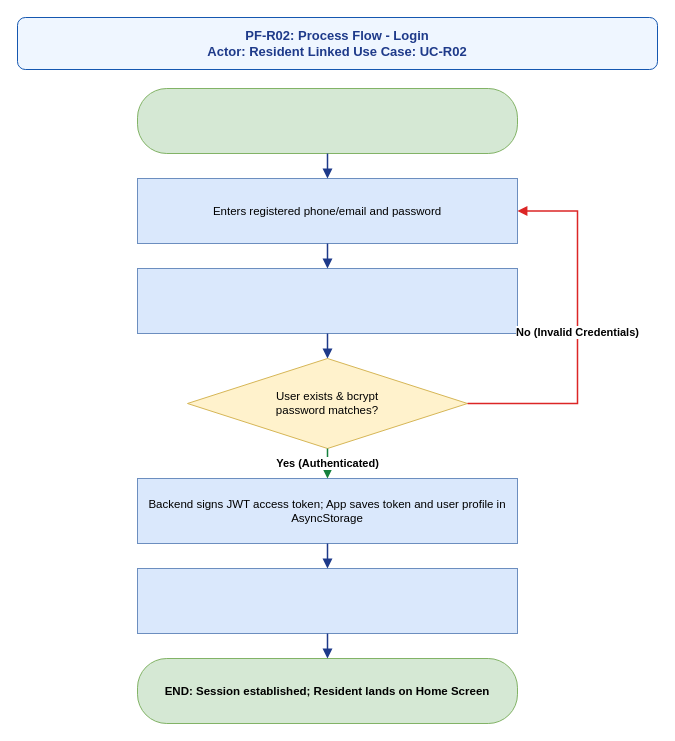
Image size: 675x741. Some labels were removed from this diagram. The shapes that lost their labels are listed below. From the top down, each one's box as (x1, y1, x2, y2) in pixels, then its label:
(136, 88, 518, 154): START: Resident opens ResidentLoginScreen
(136, 268, 518, 334): App sends POST /api/auth/login to backend authentication controller
(136, 568, 518, 634): App registers FCM push notification token via POST /api/auth/register-fcm-token
